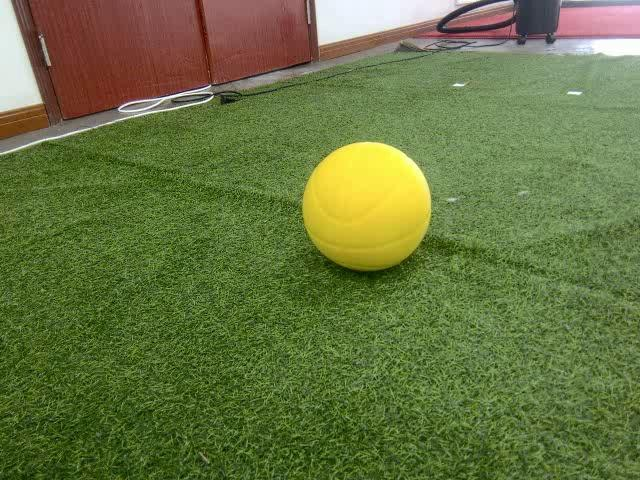yellow_ball: (303, 141, 431, 273)
